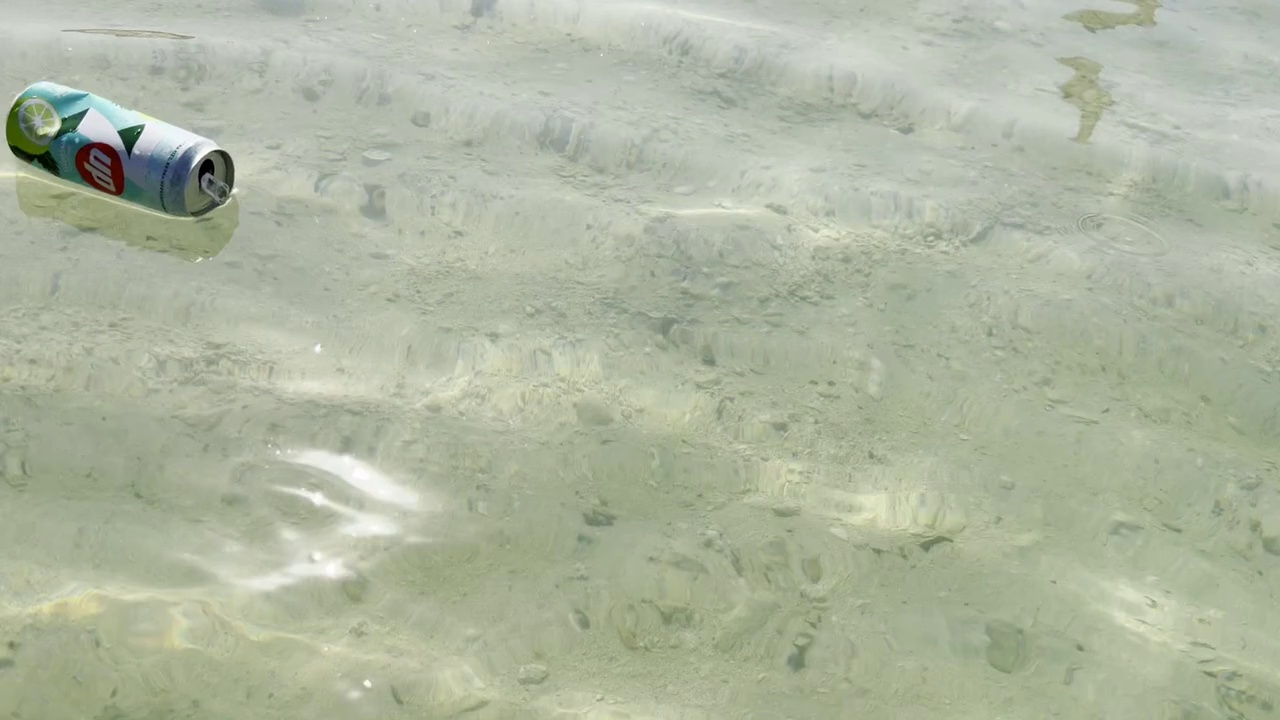debris: (3, 65, 238, 227)
